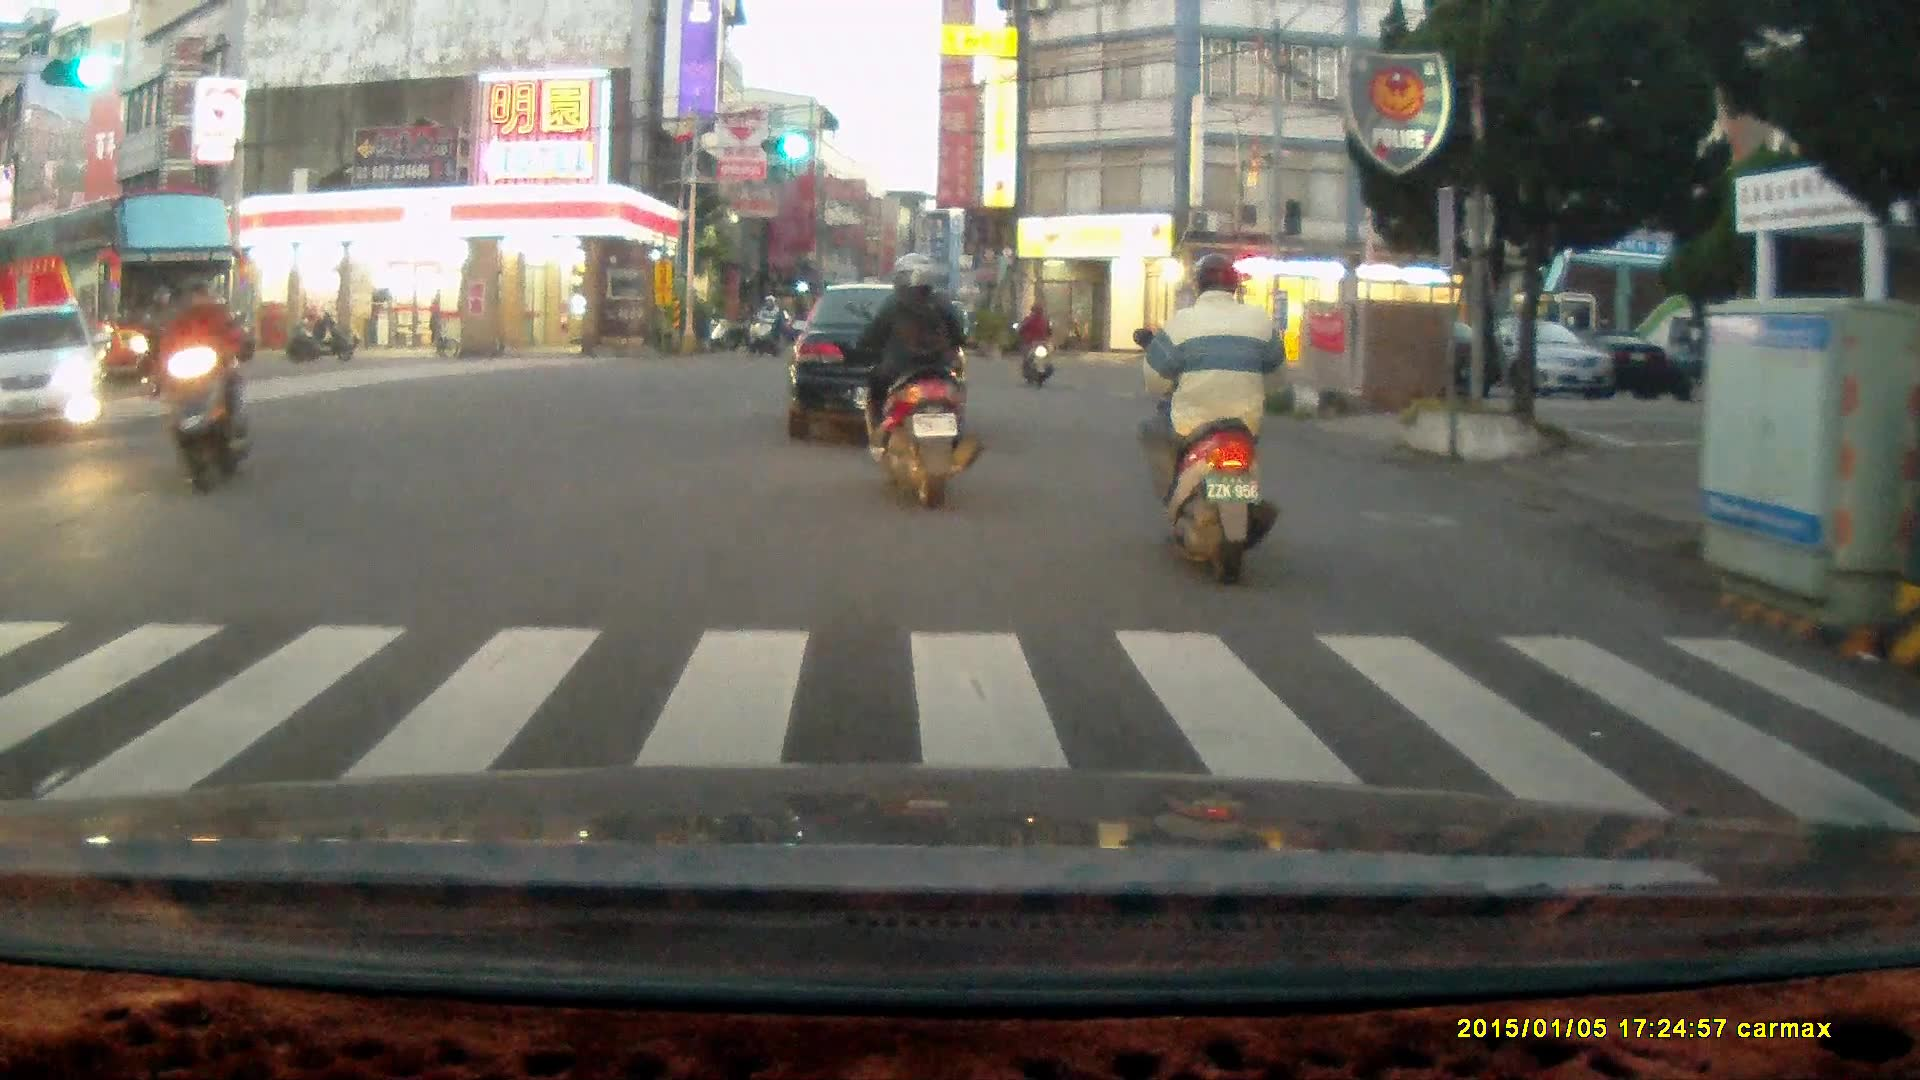rider: (1133, 245, 1287, 575), (847, 238, 988, 505), (146, 272, 251, 493), (138, 278, 196, 399), (1013, 290, 1057, 381), (744, 291, 779, 356)
vehicle: (1, 190, 240, 397), (1418, 315, 1620, 402), (1, 305, 111, 436)
